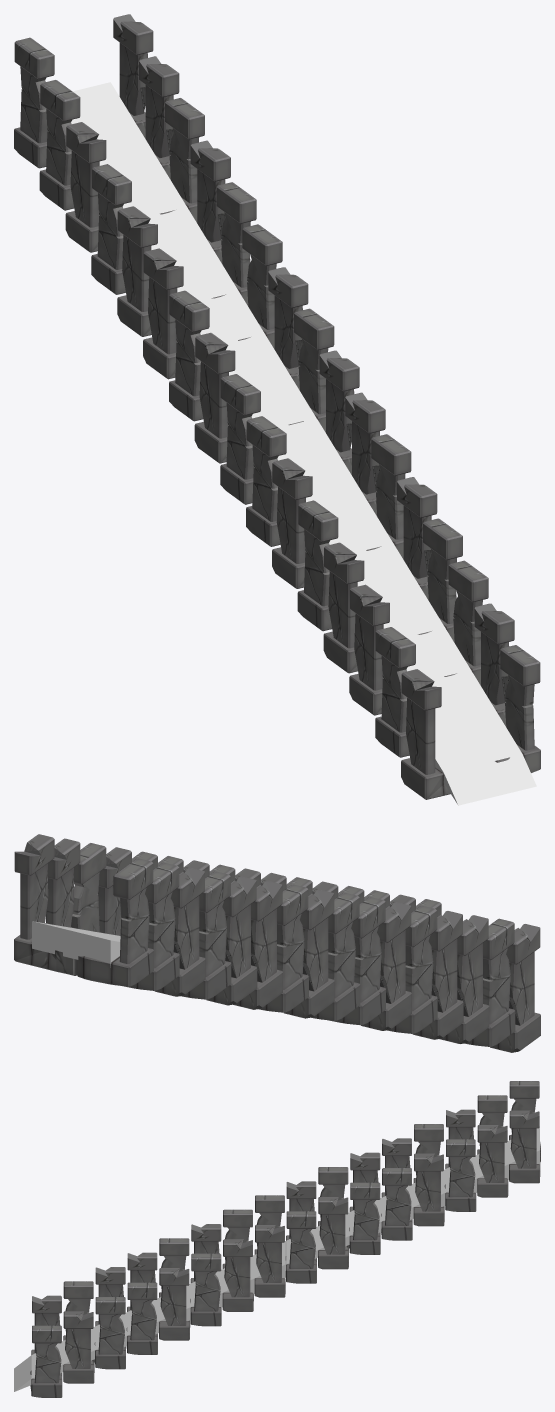
The model's file is gyedan.fbx.
3 renders of one model, top to bottom at view 1: azimuth 30°, elevation 25°; view 2: azimuth 150°, elevation 25°; view 3: azimuth 270°, elevation 25°, orthographic. The views are drawn at different scales.
Parts seen in each view (by area): view 1: Box001, Box002, gyedan000, gyedan010, gyedan005, gyedan013, gyedan002, gyedan008, gyedan011, gyedan015, gyedan003, gyedan007 (+6 smaller); view 2: gyedan015, gyedan014, gyedan013, gyedan012, gyedan004, gyedan001, gyedan006, gyedan007, gyedan009, gyedan003, gyedan008, gyedan005 (+5 smaller); view 3: gyedan015, gyedan010, gyedan001, gyedan008, gyedan000, gyedan005, gyedan009, gyedan002, gyedan003, gyedan004, gyedan014, gyedan006 (+6 smaller).
Boxes of the visible parts, box(x1,y1,x2,y2) form: Box001: box(277, 418, 536, 805); Box002: box(71, 82, 316, 427); gyedan000: box(401, 645, 540, 799); gyedan010: box(143, 224, 282, 379); gyedan005: box(272, 434, 411, 588); gyedan013: box(65, 98, 204, 252); gyedan002: box(349, 560, 488, 715); gyedan008: box(194, 308, 334, 463); gyedan011: box(117, 182, 256, 336); gyedan015: box(14, 14, 153, 168); gyedan003: box(323, 518, 462, 673); gyedan007: box(220, 350, 359, 504); gyedan015: box(14, 834, 153, 986); gyedan014: box(46, 838, 179, 990); gyedan013: box(71, 843, 205, 996); gyedan012: box(98, 847, 231, 999); gyedan004: box(312, 881, 437, 1033); gyedan001: box(390, 894, 515, 1046); gyedan006: box(261, 872, 385, 1025); gyedan007: box(235, 868, 360, 1020); gyedan009: box(183, 860, 308, 1012); gyedan003: box(338, 886, 463, 1039); gyedan008: box(209, 864, 334, 1018); gyedan005: box(286, 877, 411, 1030); gyedan015: box(509, 1081, 540, 1183); gyedan010: box(349, 1152, 380, 1254); gyedan001: box(63, 1281, 94, 1383); gyedan008: box(285, 1181, 316, 1283); gyedan000: box(30, 1295, 62, 1397); gyedan005: box(190, 1224, 221, 1326); gyedan009: box(318, 1167, 349, 1269); gyedan002: box(94, 1267, 125, 1369); gyedan003: box(126, 1252, 157, 1354); gyedan004: box(159, 1238, 190, 1340); gyedan014: box(477, 1095, 508, 1197); gyedan006: box(222, 1209, 253, 1311).
Bounding box in the file's own units: 4.03 × 15.18 × 25.63.
